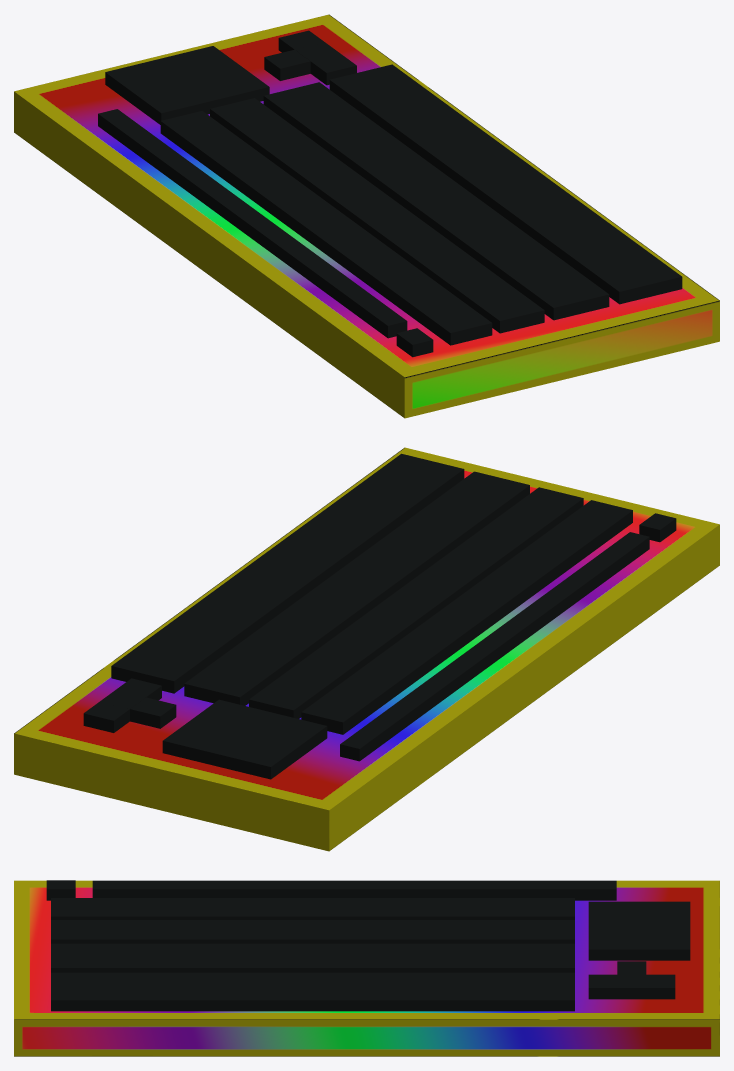
Rendered from keyboardGold.fbx.
3 views of the same model, one above another, from view 1: azimuth 30°, elevation 25°; view 2: azimuth 150°, elevation 25°; view 3: azimuth 270°, elevation 25° (orthographic). The views are drawn at different scales.
Parts seen in each view (by area): view 1: Keys, Board; view 2: Keys, Board; view 3: Keys, Board.
Part boxes in pixels (x1,y1,x2,y2): Keys: (98,30,682,357); Board: (14,14,719,418); Keys: (83,453,676,779); Board: (14,447,719,851); Keys: (46,880,690,1011); Board: (14,880,719,1056).
Size of the model in its own units: 0.48 by 1.03 by 0.0787.
